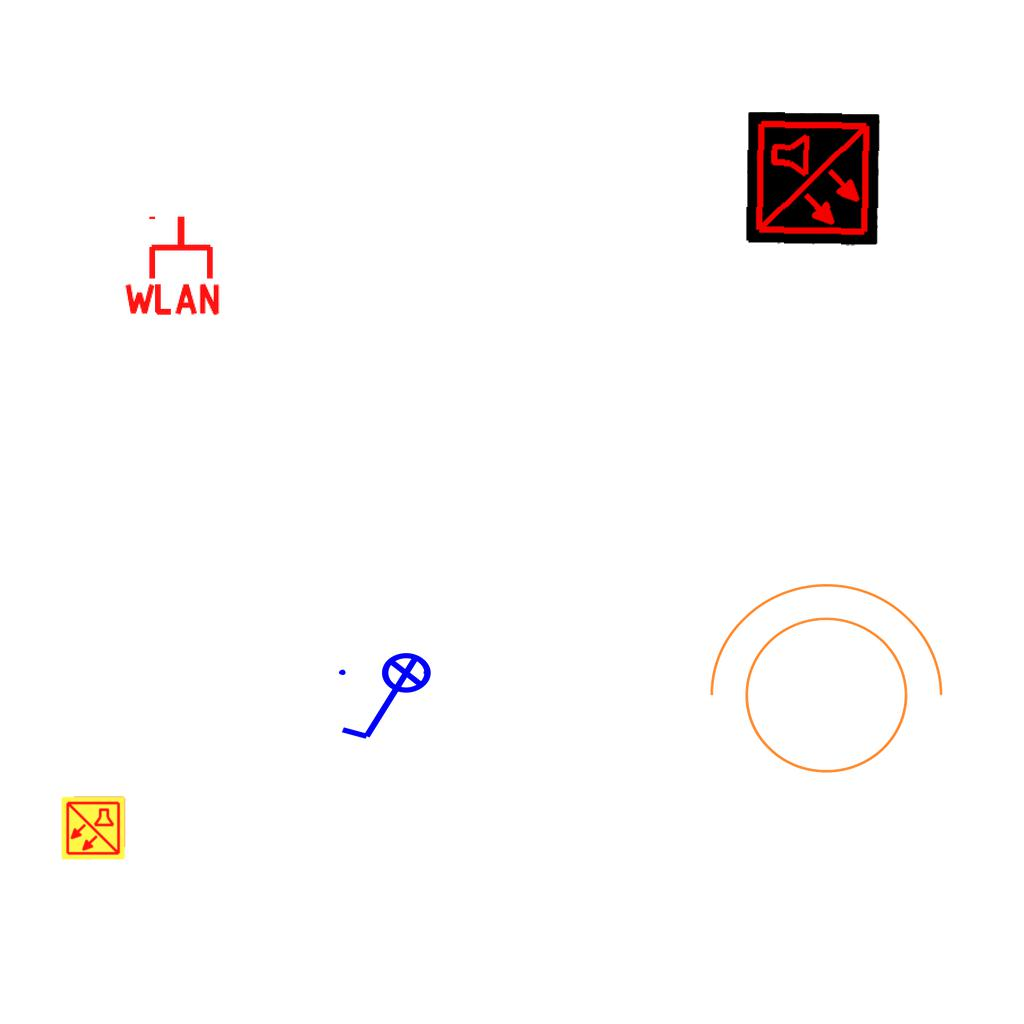Ausschalter_beleuchtet: (333, 651, 445, 747)
OKW_Multisensormelder_(Kombination_optischer_Rauch-Kahlenmonoxid_Waerme-Melder): (745, 111, 881, 247), (60, 795, 126, 861)
Scheinwerfer_fuer_Alarmbeleuchtung: (688, 573, 952, 798)
WLAN: (120, 212, 224, 317)
